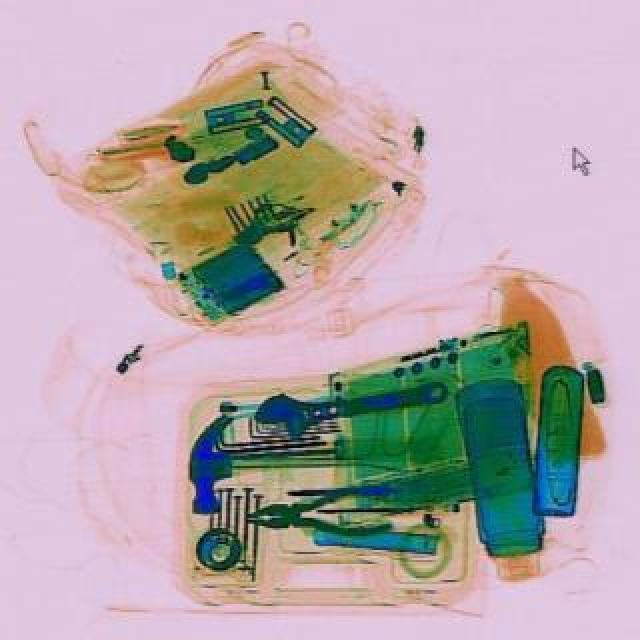scissors: (246, 366, 450, 446)
wrench: (244, 482, 400, 540)
